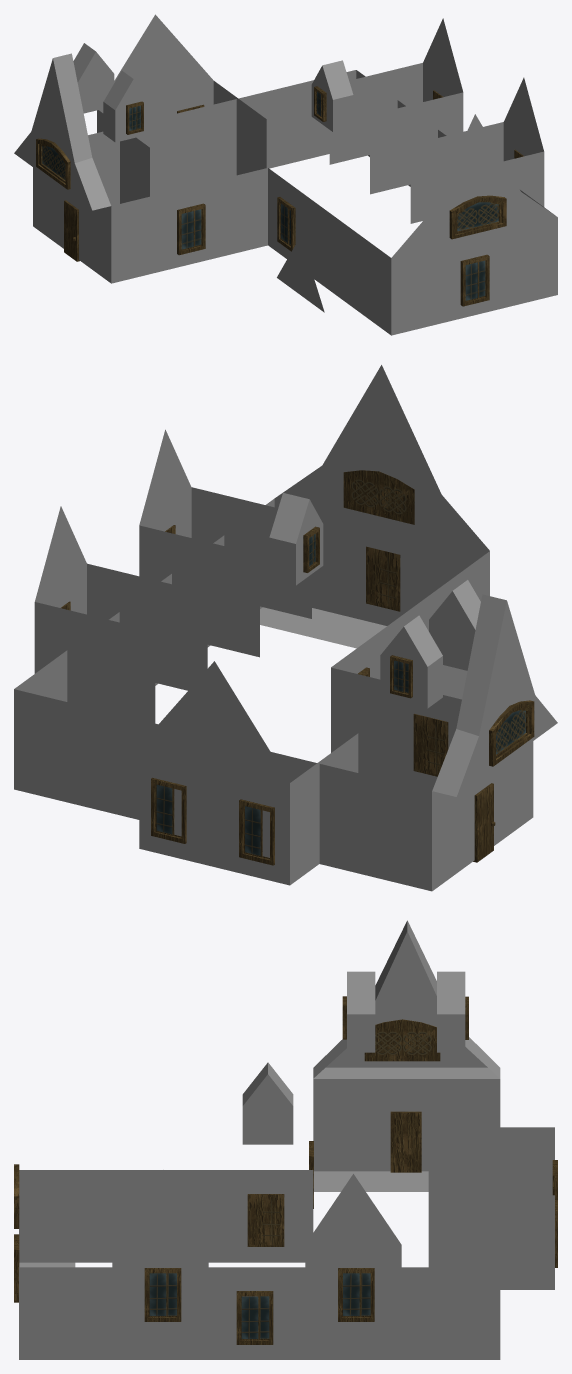
Rendered from GMTKFIXEDPLASTERWALL.fbx.
3 views of the same model, one above another, from view 1: azimuth 30°, elevation 25°; view 2: azimuth 150°, elevation 25°; view 3: azimuth 270°, elevation 25° (orthographic). The views are drawn at different scales.
Visible parts, largest first — view 1: Box491, Object1433; view 2: Box491, Object1433; view 3: Box491, Object1433.
Boxes of the visible parts, bbox=[...] form: Box491: bbox=[14, 14, 557, 335]; Object1433: bbox=[36, 86, 523, 306]; Box491: bbox=[14, 365, 557, 891]; Object1433: bbox=[61, 470, 534, 865]; Box491: bbox=[19, 920, 554, 1359]; Object1433: bbox=[14, 996, 557, 1344].
Bounding box in the file's own units: 114 × 59.2 × 121.
